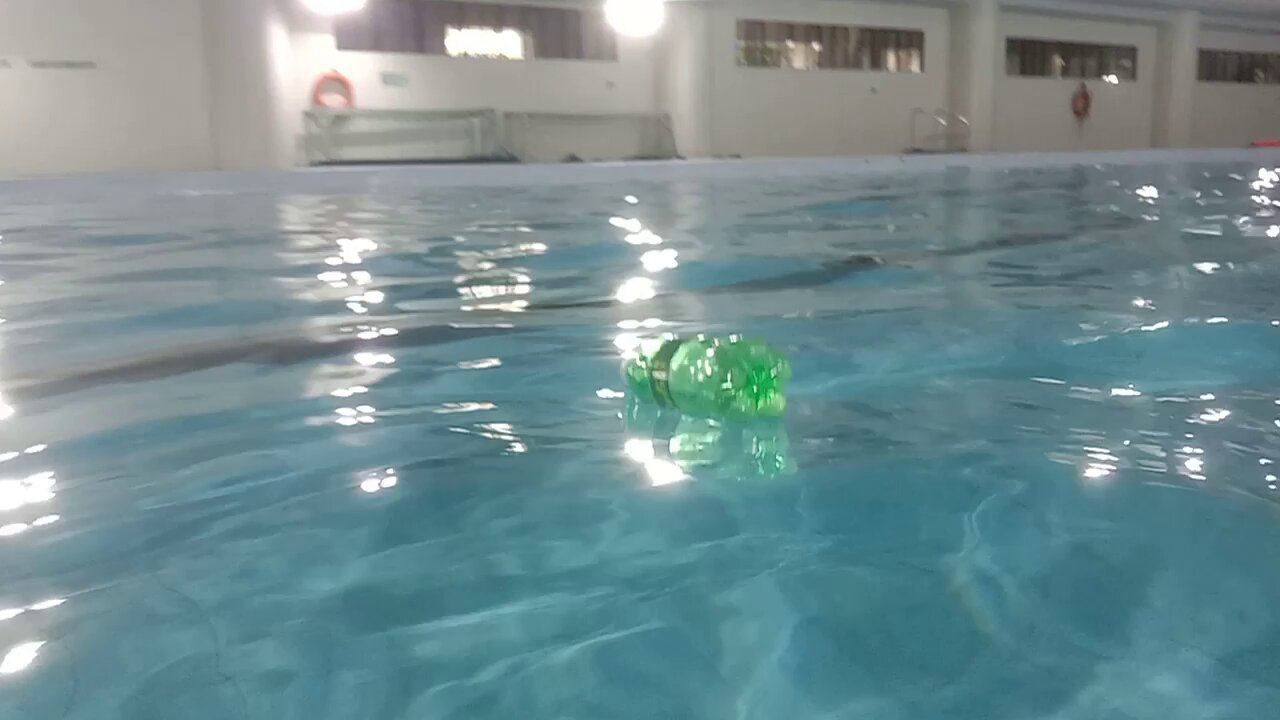plastic_bottle: (622, 336, 791, 416)
